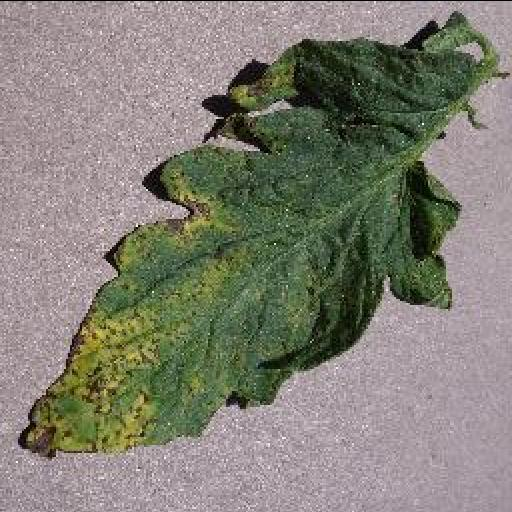disease_tomato: (14, 36, 496, 458)
